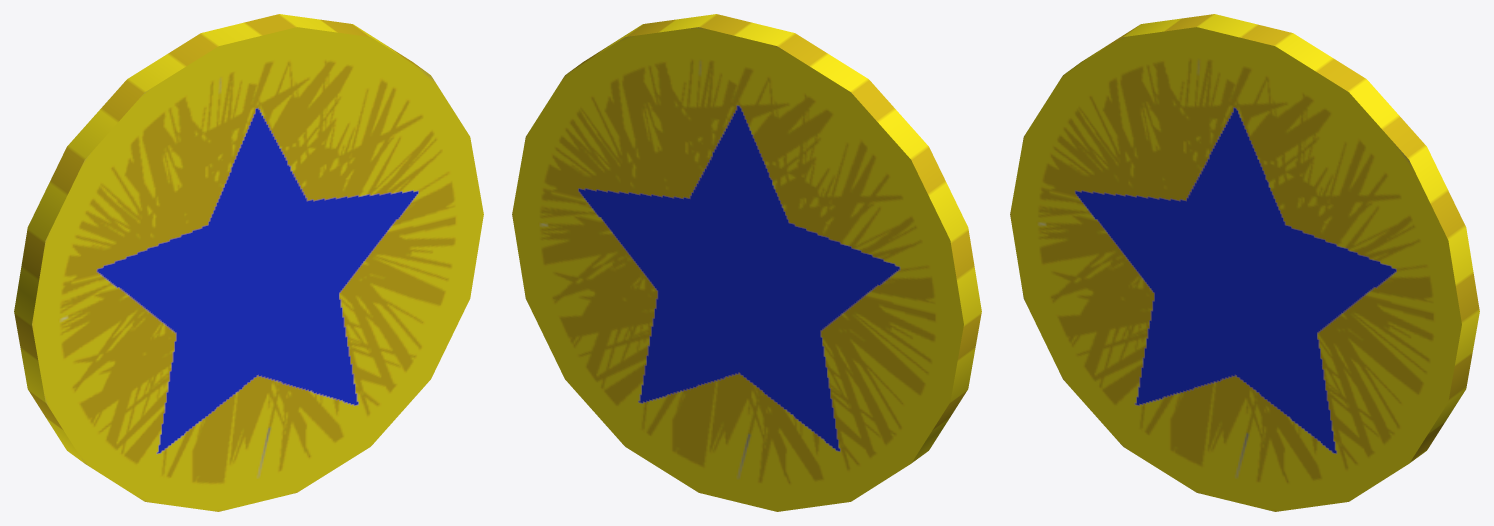
File: blueCoin.fbx
The picture shows the model from 3 angles, left to right: view 1: azimuth 30°, elevation 25°; view 2: azimuth 150°, elevation 25°; view 3: azimuth 330°, elevation 25°; orthographic projection.
Visible parts, largest first — view 1: BlueCoin_geo; view 2: BlueCoin_geo; view 3: BlueCoin_geo.
Part boxes in pixels (<box>): BlueCoin_geo: <box>14,14,483,511</box>; BlueCoin_geo: <box>512,14,981,511</box>; BlueCoin_geo: <box>1010,14,1479,511</box>.
Bounding box in the file's own units: 123 × 121 × 8.45.
